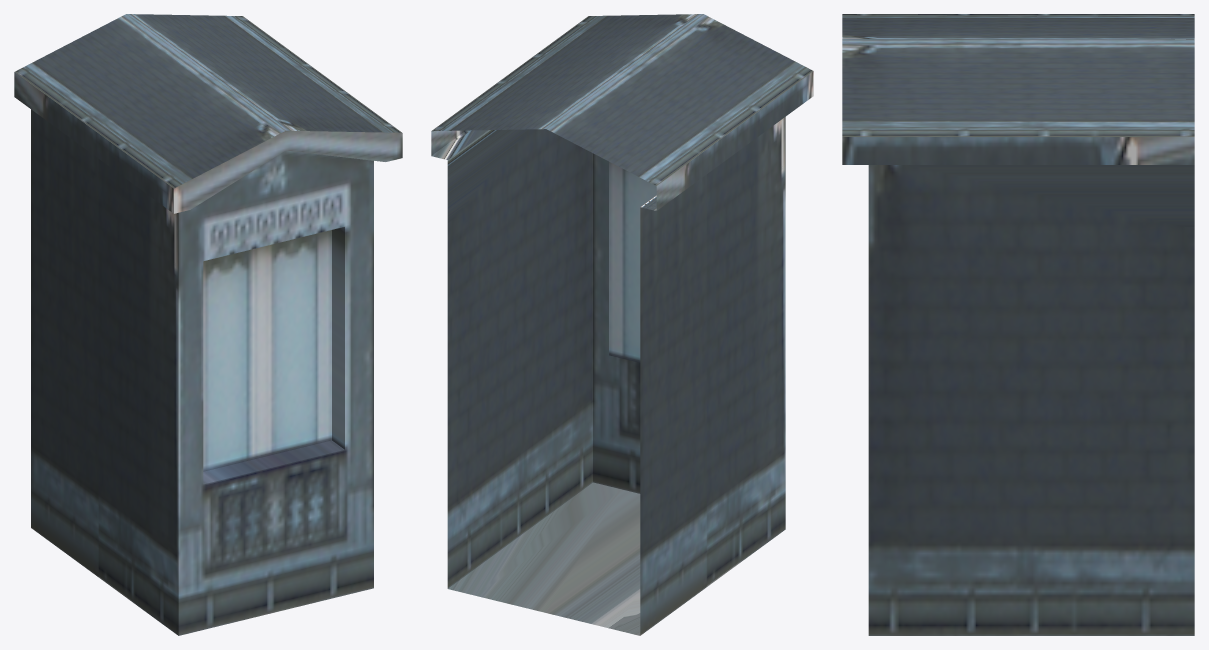
File: comble3.obj
3 renders of one model, left to right at view 1: azimuth 30°, elevation 25°; view 2: azimuth 150°, elevation 25°; view 3: azimuth 270°, elevation 25°, orthographic. The views are drawn at different scales.
Visible parts, largest first — view 1: pCube1; view 2: pCube1; view 3: pCube1.
Part boxes in pixels (left/top/right/bottom): pCube1: left=14, top=14, right=402, bottom=635; pCube1: left=431, top=14, right=813, bottom=635; pCube1: left=842, top=14, right=1194, bottom=635.
Bounding box in the file's own units: 0.9748 × 2 × 1.18.
1 material, 1 textured.
